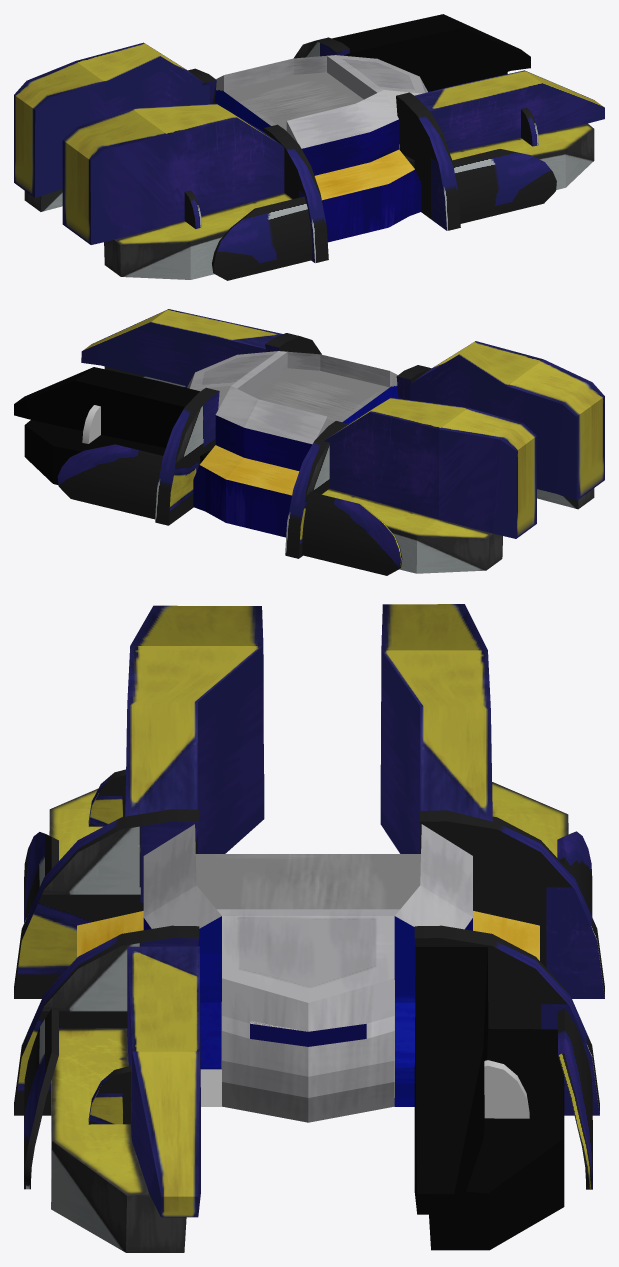
Rendered from Theran.fbx.
3 renders of one model, top to bottom at view 1: azimuth 30°, elevation 25°; view 2: azimuth 150°, elevation 25°; view 3: azimuth 270°, elevation 25°, orthographic. The views are drawn at different scales.
Parts seen in each view (by area): view 1: polySurface19, polySurface22, polySurface18, polySurface20, polySurface21, pCube15, pCube17, pCylinder17, pCylinder14, pCylinder10, pCylinder12, pCylinder13 (+1 smaller); view 2: polySurface18, polySurface22, polySurface19, polySurface21, polySurface20, pCube14, pCube16, pCylinder10, pCylinder11, pCylinder17, pCylinder14, pCylinder15; view 3: polySurface22, polySurface20, polySurface21, polySurface19, polySurface18, pCylinder11, pCylinder14, pCylinder17, pCylinder10, pCube16, pCube17, pCylinder15 (+4 smaller).
Boxes of the visible parts, x1,y1,x2,y2 form: polySurface19: (62, 103, 292, 279); polySurface22: (215, 55, 430, 242); polySurface18: (14, 42, 209, 211); polySurface20: (399, 70, 604, 189); polySurface21: (332, 14, 530, 91); pCube15: (212, 196, 312, 280); pCube17: (452, 149, 556, 223); pCylinder17: (396, 92, 460, 230); pCylinder14: (264, 124, 328, 263); pCylinder10: (293, 37, 349, 58); pCylinder12: (184, 190, 201, 228); pCylinder13: (521, 107, 538, 146); polySurface18: (322, 397, 536, 573); polySurface22: (184, 351, 398, 537); polySurface19: (410, 341, 604, 509); polySurface21: (14, 367, 211, 484); polySurface20: (81, 309, 282, 386); pCube14: (302, 492, 402, 575); pCube16: (57, 444, 162, 519); pCylinder10: (155, 387, 219, 525); pCylinder11: (285, 421, 347, 558); pCylinder17: (265, 333, 321, 354); pCylinder14: (396, 365, 431, 399); pCylinder15: (82, 405, 100, 443); polySurface22: (77, 824, 539, 1122); polySurface20: (51, 946, 200, 1252); polySurface21: (414, 946, 564, 1250); polySurface19: (49, 605, 264, 860); polySurface18: (380, 604, 568, 914); pCylinder11: (419, 810, 604, 998); pCylinder14: (14, 809, 199, 998); pCylinder17: (14, 925, 199, 1115); pCylinder10: (414, 925, 599, 1115); pCube16: (557, 1008, 592, 1189); pCube17: (24, 1008, 58, 1189); pCylinder15: (484, 1060, 529, 1118).
Size of the model in its own units: 12.52 by 3.13 by 6.88.
